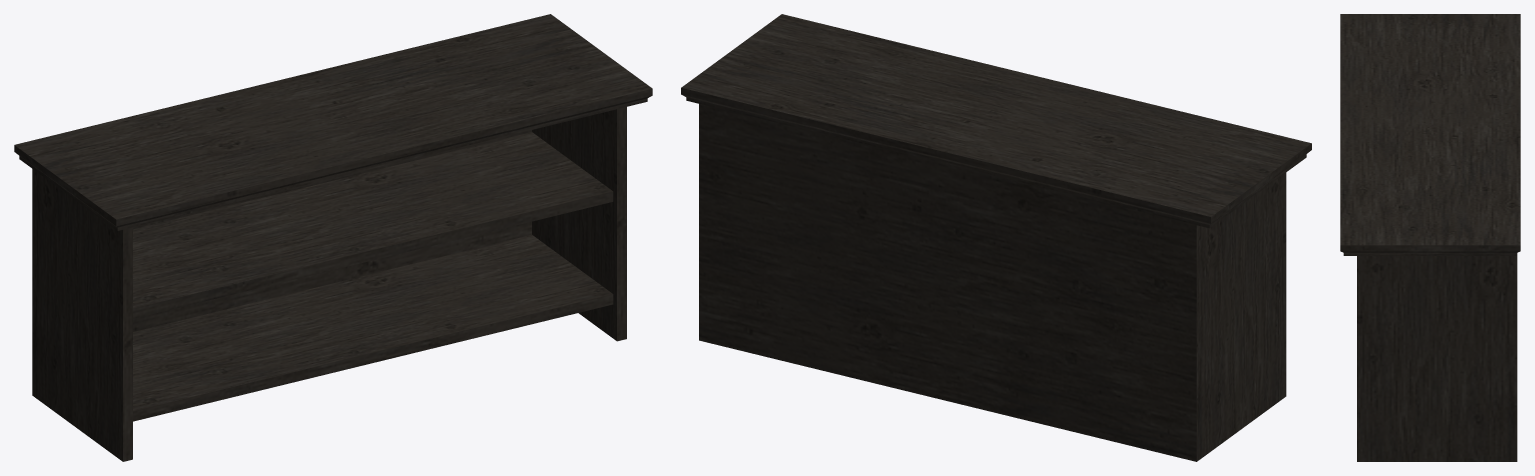
The model's file is tv_table_1.obj.
The picture shows the model from 3 angles, left to right: view 1: azimuth 30°, elevation 25°; view 2: azimuth 150°, elevation 25°; view 3: azimuth 270°, elevation 25°; orthographic projection. The views are drawn at different scales.
Parts seen in each view (by area): view 1: tv_table_1; view 2: tv_table_1; view 3: tv_table_1.
Boxes of the visible parts, left/top/right/bottom form: tv_table_1: left=14, top=14, right=652, bottom=461; tv_table_1: left=681, top=14, right=1311, bottom=461; tv_table_1: left=1340, top=14, right=1520, bottom=461.
Size of the model in its own units: 1.64 by 0.74 by 0.54.
